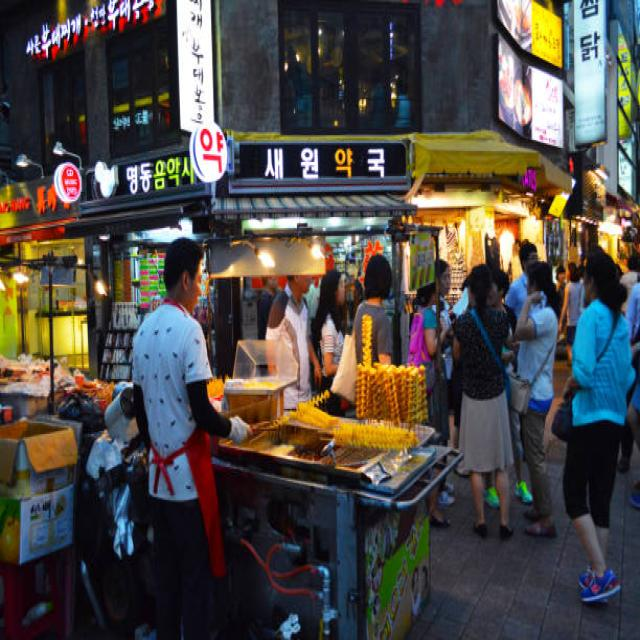Emperan: (106, 295, 470, 640)
